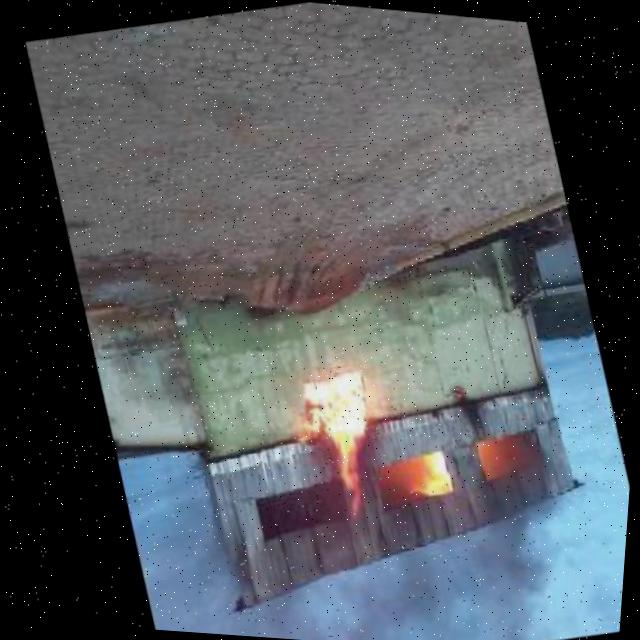fire: (165, 513, 499, 640), (444, 443, 588, 620), (265, 361, 396, 529), (387, 444, 452, 500)
